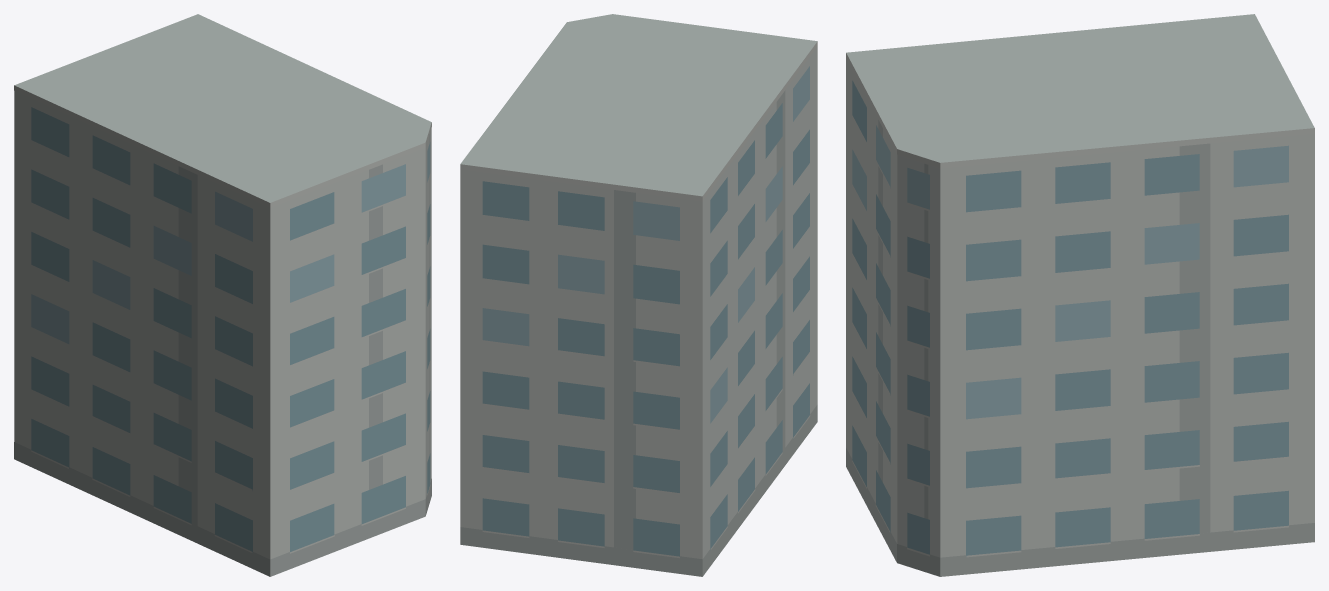
The model's file is survey-upis-32810137.glb.
3 views of the same model, side by side, from view 1: azimuth 30°, elevation 25°; view 2: azimuth 150°, elevation 25°; view 3: azimuth 270°, elevation 25° (orthographic). The views are drawn at different scales.
Visible parts, largest first — view 1: survey-upis-32810137.tmp; view 2: survey-upis-32810137.tmp; view 3: survey-upis-32810137.tmp.
Boxes of the visible parts, <box> form: survey-upis-32810137.tmp: <box>14,14,431,576</box>; survey-upis-32810137.tmp: <box>460,14,817,576</box>; survey-upis-32810137.tmp: <box>846,14,1314,576</box>.
Size of the model in its own units: 13.5 by 17.5 by 17.96.
